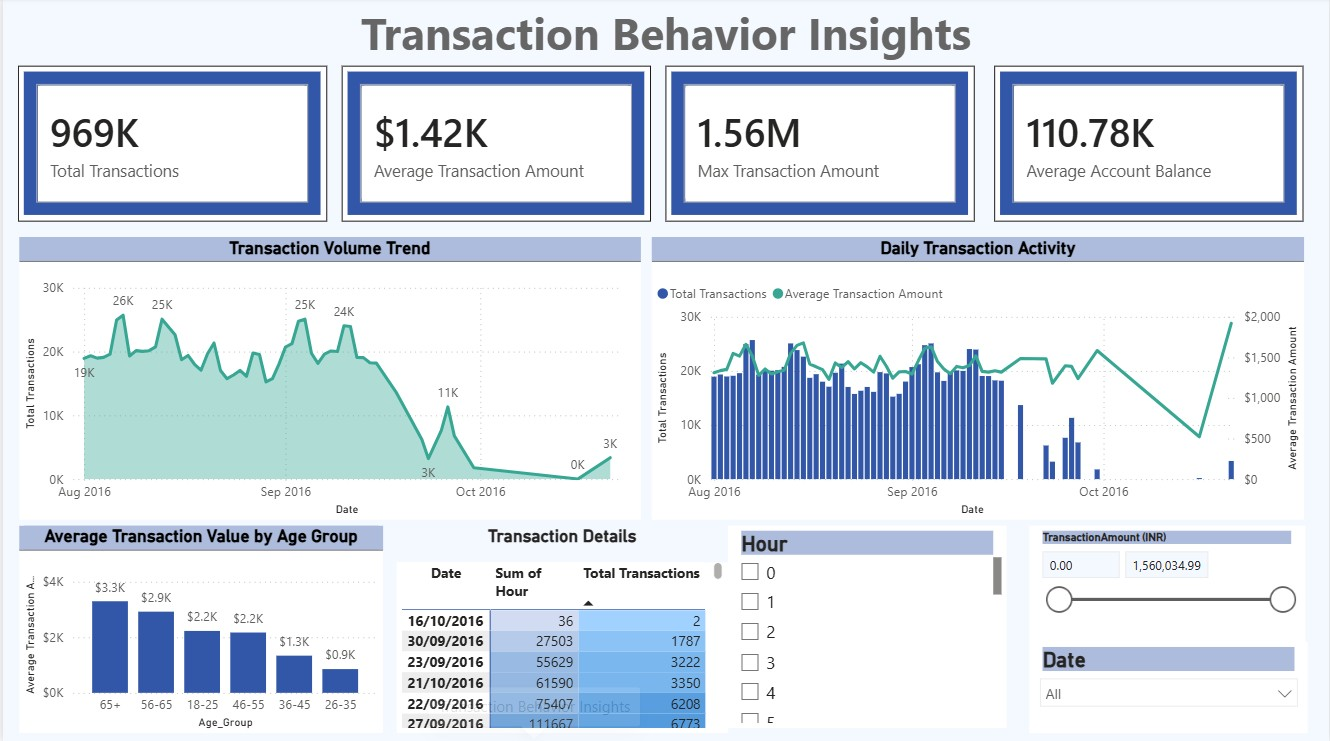

The dashboard page shown, as its layout file describes it:
{"tool":"powerbi","page":{"name":"Transaction Behavior Insights","canvas":[1280,720],"ordinal":1},"visuals":[{"type":"textbox","box":[0,0,1280,76.2],"z":0},{"type":"cardVisual","fields":{"Data":["bank_transactions.Total Transactions"]},"box":[15,66.2,298.8,150],"z":1000},{"type":"cardVisual","fields":{"Data":["bank_transactions.Average Transaction Amount"]},"box":[327.5,66.2,298.8,150],"z":2000},{"type":"cardVisual","fields":{"Data":["bank_transactions.Max Transaction Amount"]},"box":[640,66.2,298.8,150],"z":3000},{"type":"cardVisual","fields":{"Data":["bank_transactions.Average Account Balance"]},"box":[956.2,66.2,298.8,150],"z":4000},{"type":"areaChart","title":"Transaction Volume Trend","fields":{"Category":["DateTable.Date"],"Y":["bank_transactions.Total Transactions"]},"box":[15.7,231.6,599.6,272.7],"z":5000},{"type":"clusteredColumnChart","title":"Average Transaction Value by Age Group","fields":{"Category":["bank_transactions.Age_Group"],"Y":["bank_transactions.Average Transaction Amount"]},"box":[15.7,510.3,351.1,200.3],"z":6000},{"type":"lineClusteredColumnComboChart","title":"Daily Transaction Activity","fields":{"Category":["DateTable.Date"],"Y":["bank_transactions.Total Transactions"],"Y2":["bank_transactions.Average Transaction Amount"]},"box":[626.1,231.6,629.8,272.7],"z":7000},{"type":"slicer","fields":{"Values":["DateTable.Date"]},"box":[990.5,622.5,269,88.1],"z":8000},{"type":"pivotTable","title":"Transaction Details","fields":{"Rows":["DateTable.Date"],"Values":["Sum(bank_transactions.Hour)","bank_transactions.Total Transactions"]},"box":[380,510.3,319.7,200.3],"z":9000},{"type":"slicer","fields":{"Values":["bank_transactions.Hour"]},"box":[699.7,510.3,269,195.4],"z":10000},{"type":"slicer","fields":{"Values":["bank_transactions.TransactionAmount (INR)"]},"box":[990.5,510.3,265.4,112.2],"z":11000}]}

Visuals, with their boxes in screenshot pixels (x1, y1, x2, y2), scaled from the page's 1280x720 canvas onto the 1330x741 screenshot:
textbox: [x1=0, y1=0, x2=1329, y2=78]
cardVisual - bank_transactions.Total Transactions: [x1=16, y1=68, x2=326, y2=223]
cardVisual - bank_transactions.Average Transaction Amount: [x1=340, y1=68, x2=651, y2=223]
cardVisual - bank_transactions.Max Transaction Amount: [x1=665, y1=68, x2=975, y2=223]
cardVisual - bank_transactions.Average Account Balance: [x1=994, y1=68, x2=1304, y2=223]
"Transaction Volume Trend" areaChart: [x1=16, y1=238, x2=639, y2=519]
"Average Transaction Value by Age Group" clusteredColumnChart: [x1=16, y1=525, x2=381, y2=731]
"Daily Transaction Activity" lineClusteredColumnComboChart: [x1=651, y1=238, x2=1305, y2=519]
slicer - DateTable.Date: [x1=1029, y1=641, x2=1309, y2=731]
"Transaction Details" pivotTable: [x1=395, y1=525, x2=727, y2=731]
slicer - bank_transactions.Hour: [x1=727, y1=525, x2=1007, y2=726]
slicer - bank_transactions.TransactionAmount (INR): [x1=1029, y1=525, x2=1305, y2=641]
